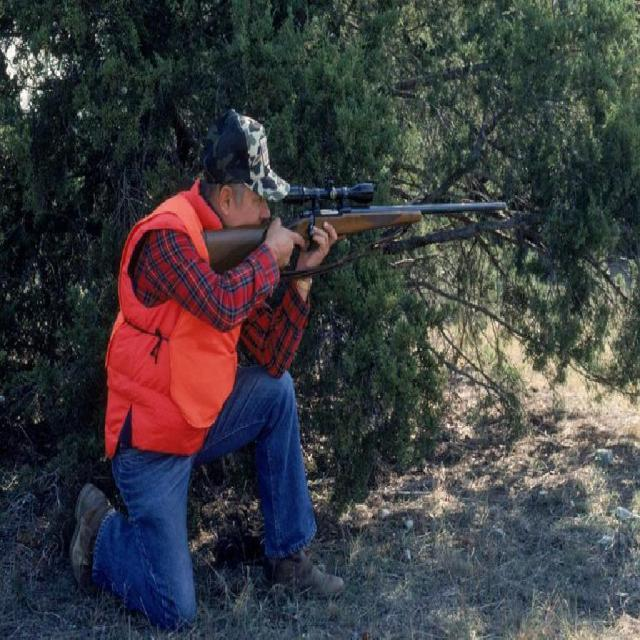rifle: (188, 178, 512, 267)
